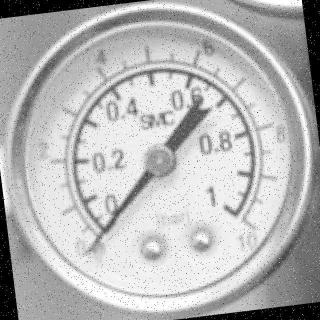gauge: (0, 0, 320, 320), (224, 192, 270, 246), (70, 220, 117, 266), (138, 139, 180, 183), (78, 240, 96, 262)
